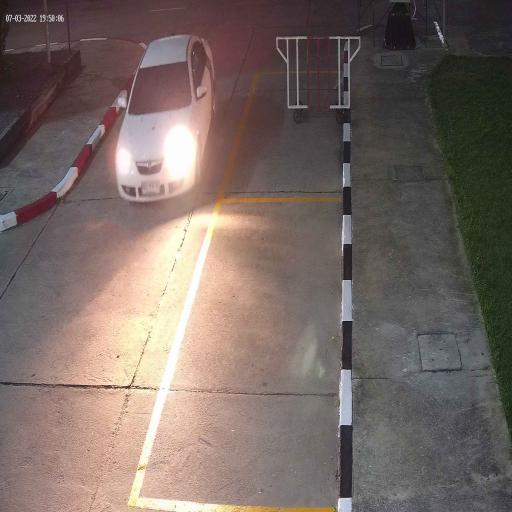car: (114, 32, 218, 206)
